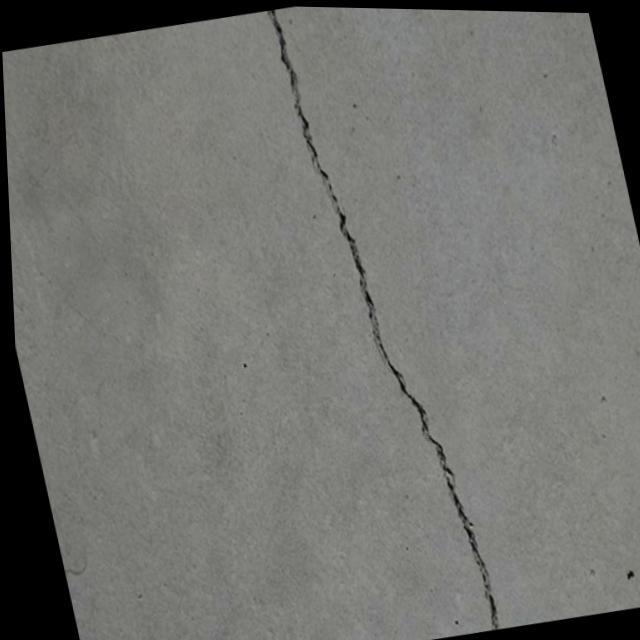Crack: (260, 5, 499, 640)
